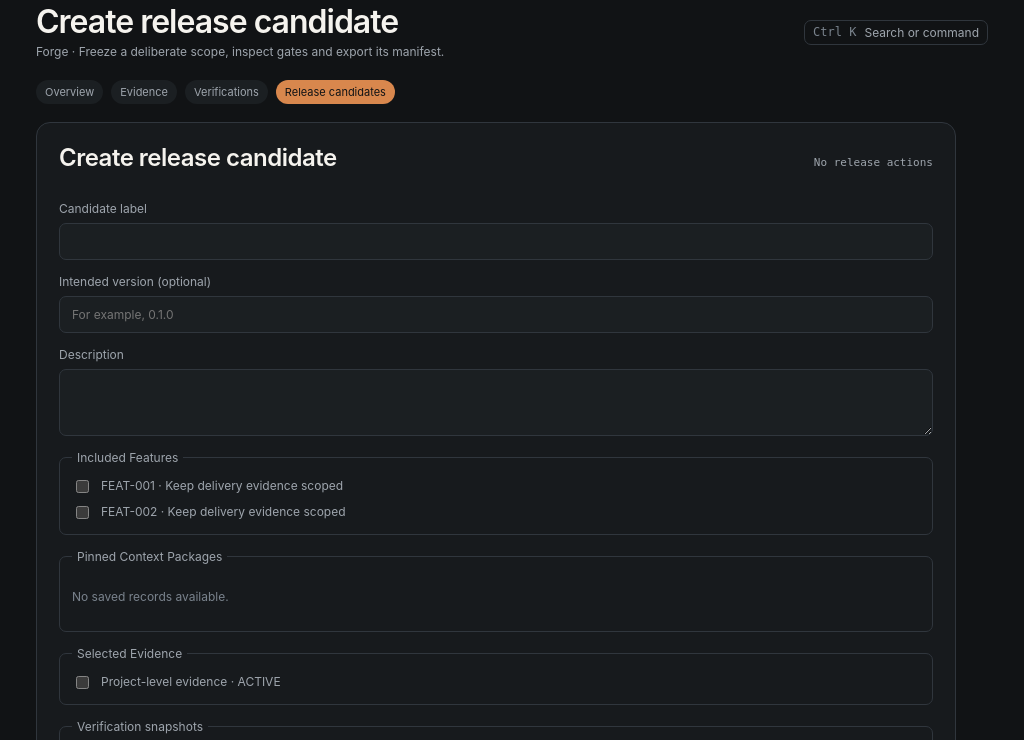
Scenario: Delivery feature routes and provenance › pins only chosen, scope-compatible records and recovers from a rejected candidate create
Expected: the 1st heading "Create release candidate" is shown, [36, 3, 444, 41]
Type "Forge Alpha" into the field labelled "Candidate label".
click(496, 242); type("Forge Alpha")  # box [59, 223, 933, 260]
Type "0.1.0" into the field labelled "Intended version (optional)".
click(496, 314); type("0.1.0")  # box [59, 296, 933, 333]
Click the checkbox labelled "FEAT-001 · Keep delivery evidence scoped".
click(82, 486)  # box [76, 480, 89, 493]
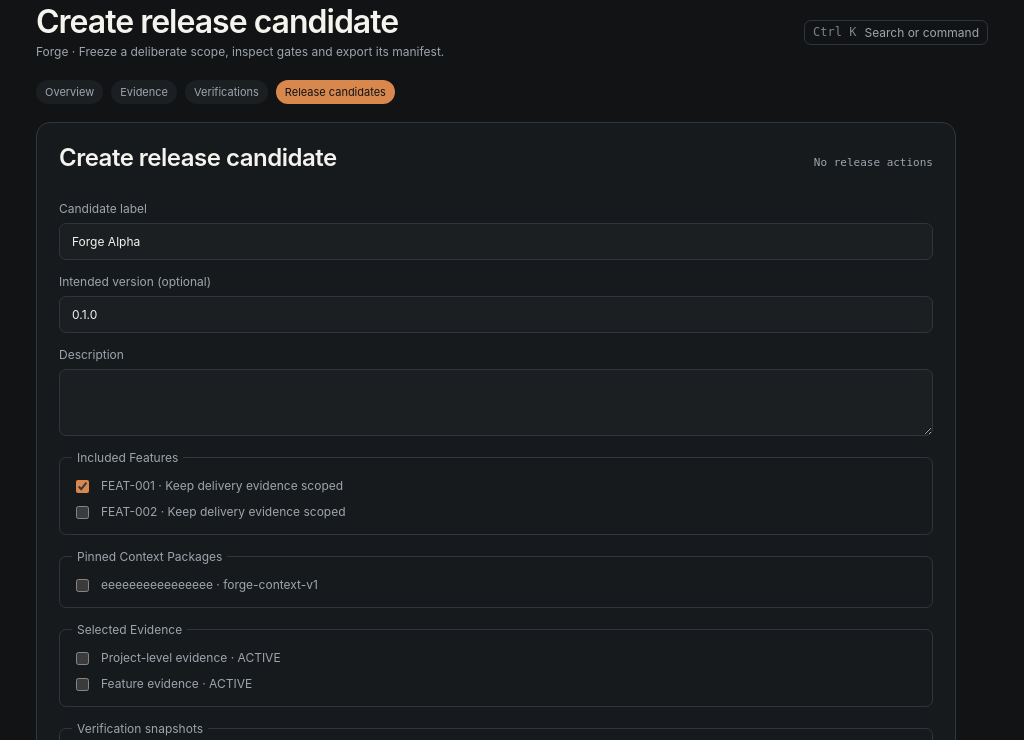
Click the checkbox labelled "Project-level evidence · ACTIVE".
click(82, 658)  # box [76, 652, 89, 665]
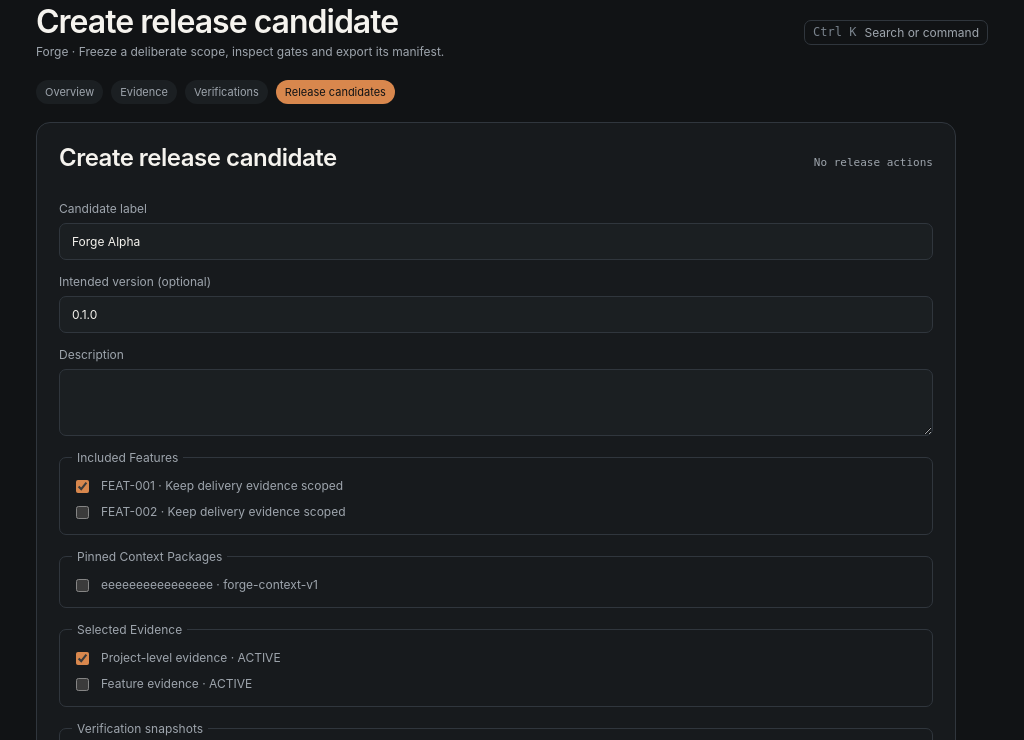
Click the checkbox labelled "Feature evidence · ACTIVE".
click(82, 684)  # box [76, 678, 89, 691]
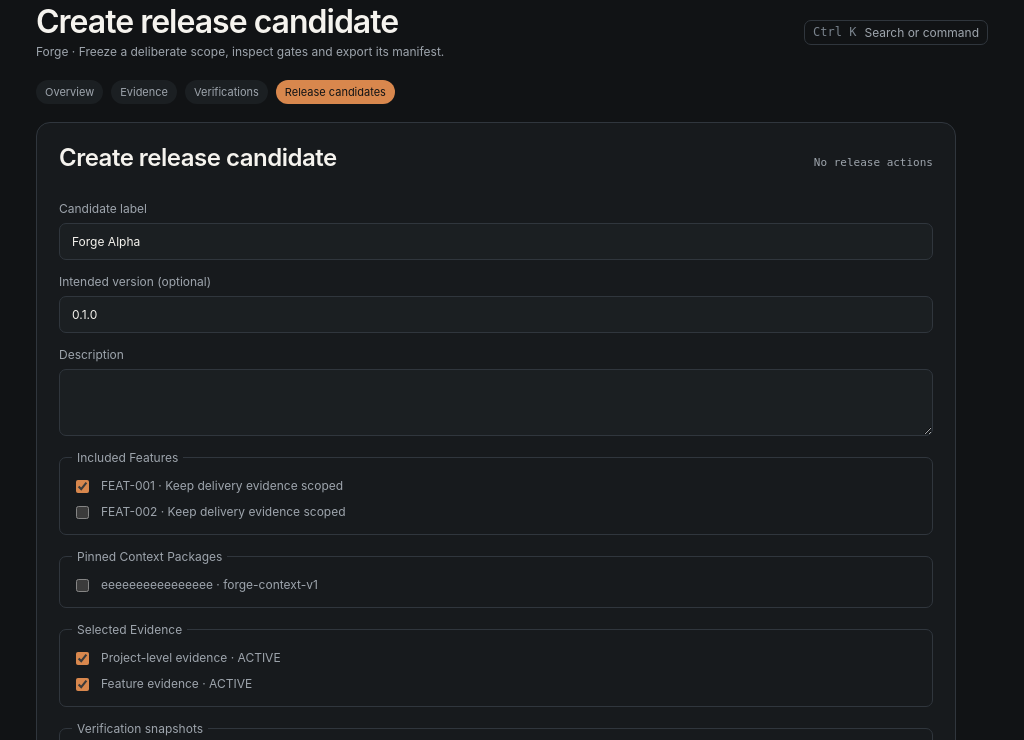
Click the checkbox labelled "forge-context-v1".
click(82, 586)  # box [76, 579, 89, 592]
(page scrolled)
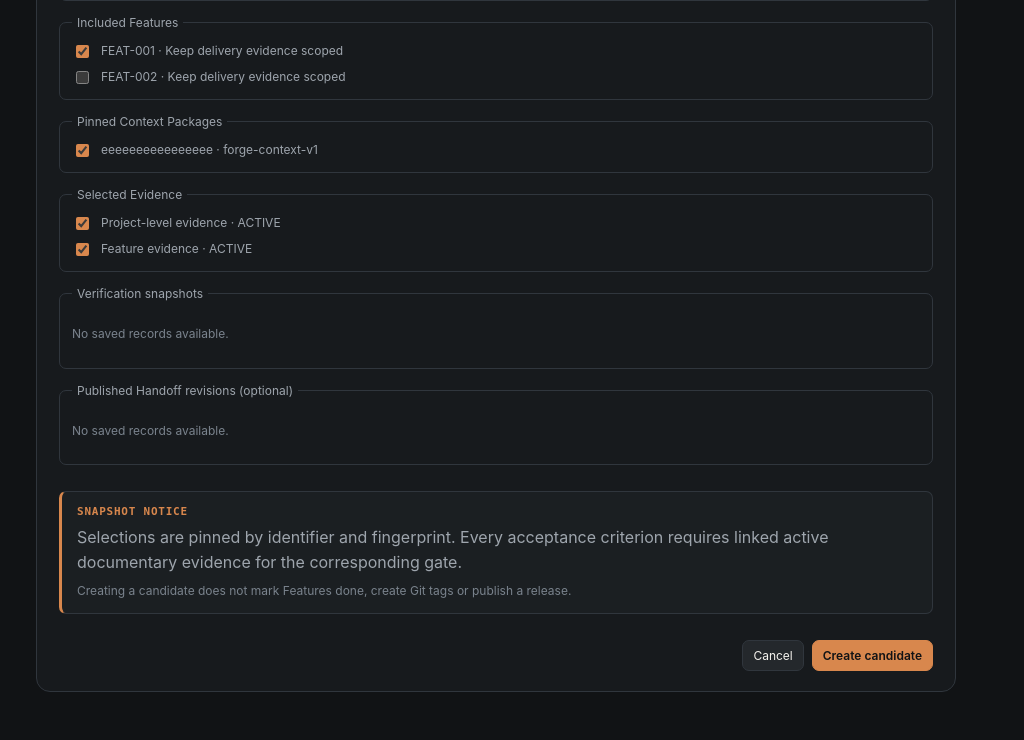
Click the button "Create candidate".
click(872, 656)  # box [812, 640, 933, 671]
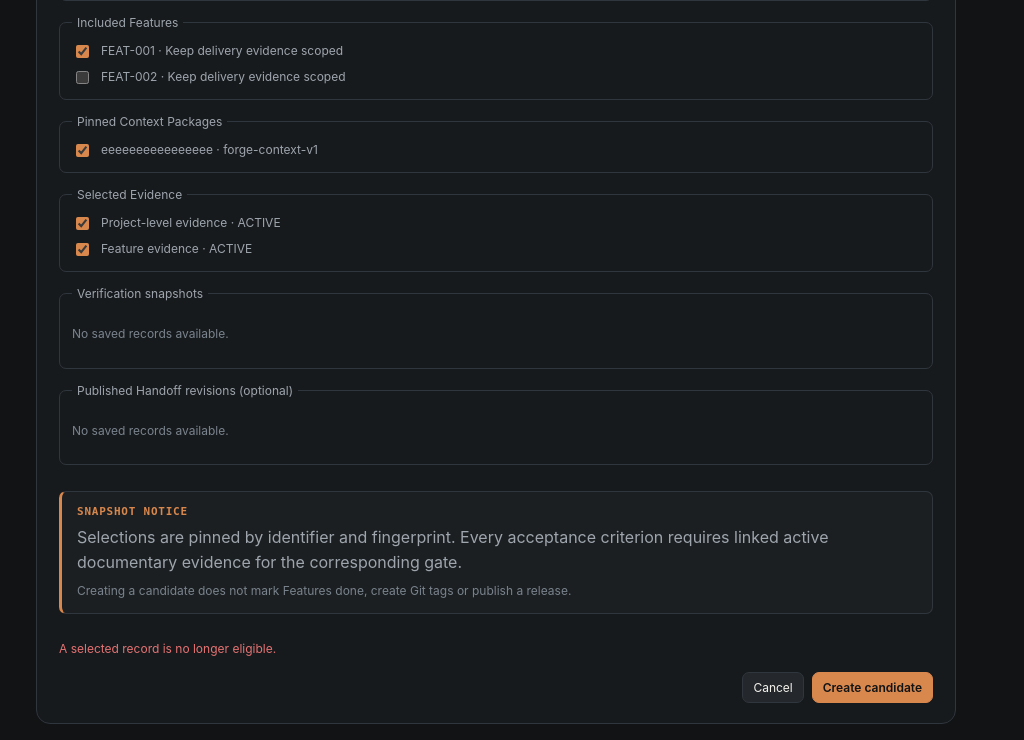
Now the checkbox labelled "Feature evidence · ACTIVE" is checked, box [76, 243, 89, 256]
Now the number of messages is 1, box [59, 641, 276, 656]
Now the message reads "A selected record is no longer eligible.", box [59, 641, 276, 656]
Click the button "Create candidate".
click(872, 688)  # box [812, 672, 933, 703]
(page scrolled)
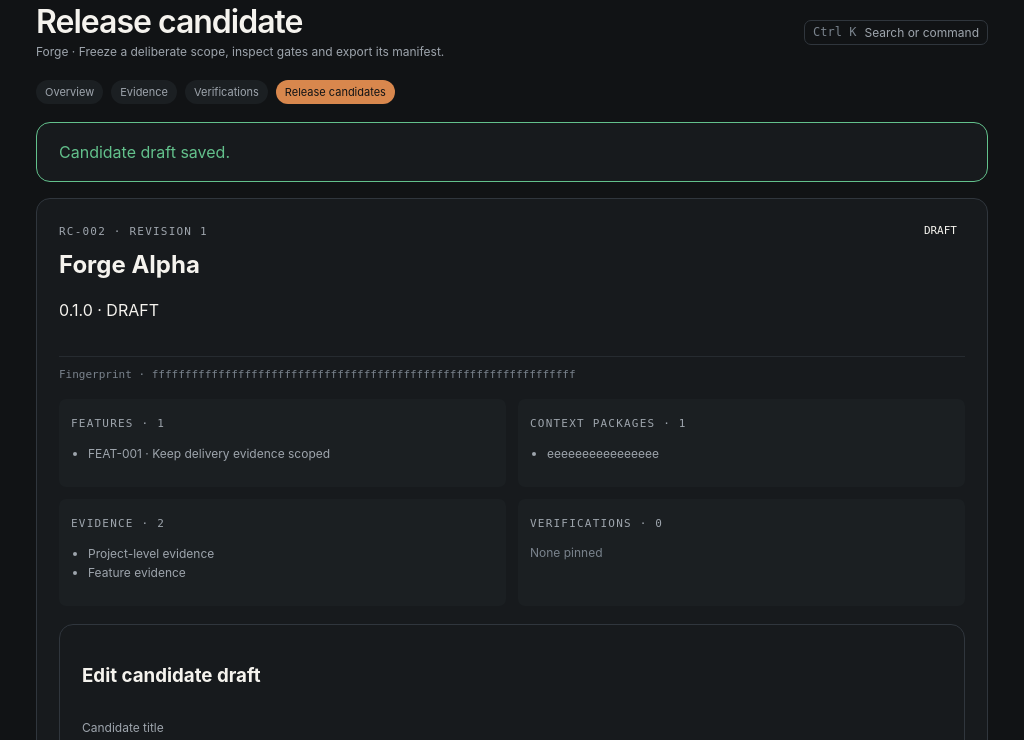
Now the heading "Forge Alpha" is shown, box [59, 250, 208, 280]
